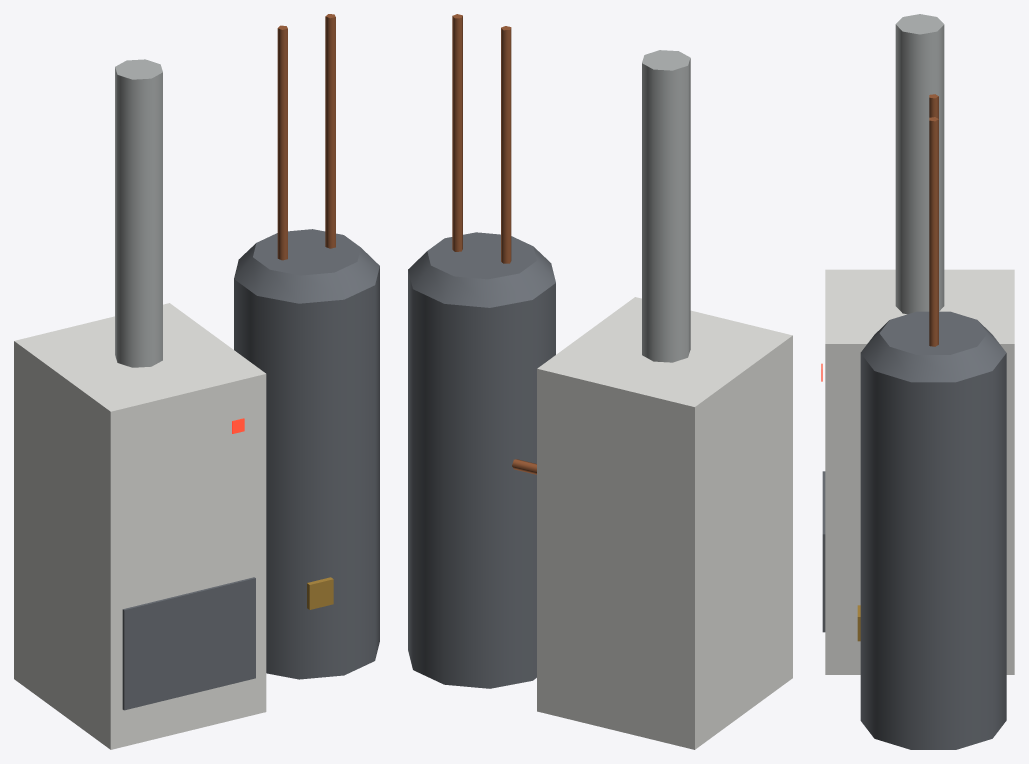
The model's file is basement_boiler.glb.
3 renders of one model, left to right at view 1: azimuth 30°, elevation 25°; view 2: azimuth 150°, elevation 25°; view 3: azimuth 270°, elevation 25°, orthographic. The views are drawn at different scales.
Parts seen in each view (by area): view 1: basement_boiler; view 2: basement_boiler; view 3: basement_boiler.
Part boxes in pixels (box(x1,y1,x2,y2)): basement_boiler: box(14, 14, 379, 749); basement_boiler: box(408, 14, 792, 749); basement_boiler: box(821, 14, 1014, 749).
Bounding box in the file's own units: 1.31 × 2.5 × 0.715.
1 material, 1 textured.
